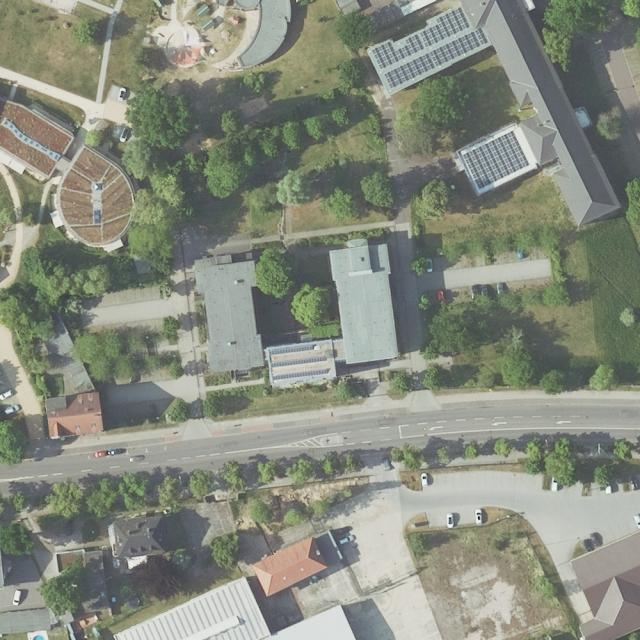PV: (384, 27, 488, 90), (371, 6, 470, 68), (462, 130, 529, 190), (269, 355, 328, 368), (272, 368, 329, 381), (269, 345, 314, 355)
